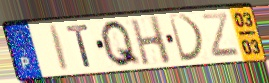D: (167, 13, 207, 64)
H: (128, 14, 174, 67)
I: (47, 23, 72, 73)
Q: (99, 18, 144, 69)
T: (64, 22, 94, 69)
Z: (199, 11, 242, 59)
